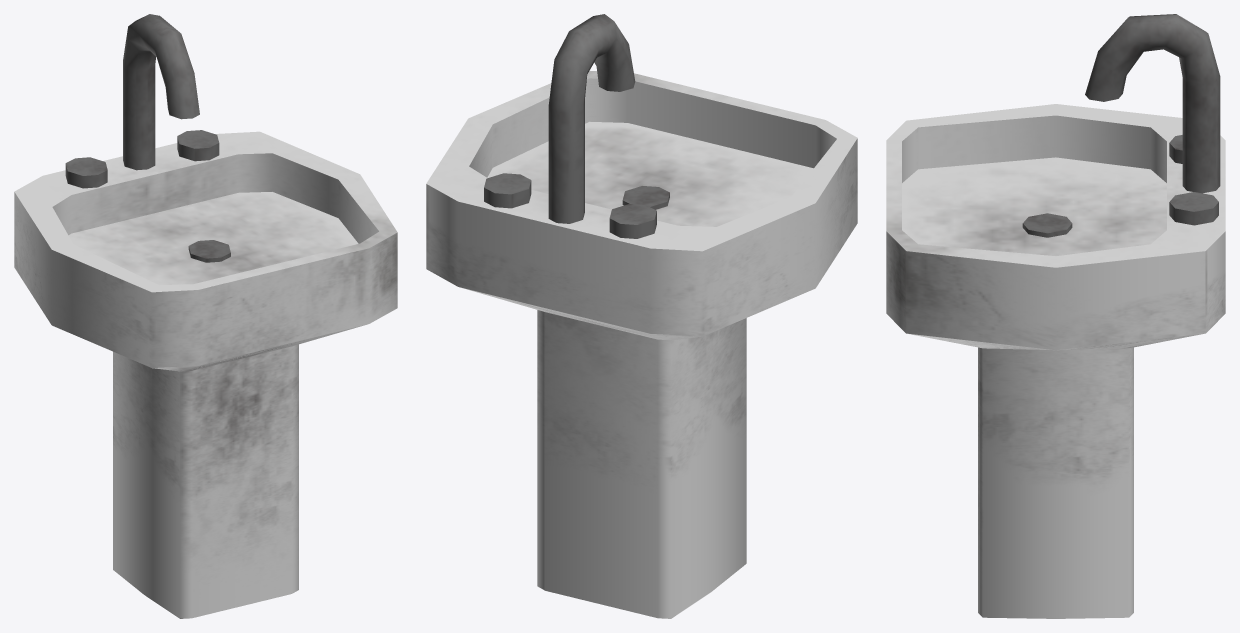
Rendered from piabanehro.glb.
The picture shows the model from 3 angles, left to right: view 1: azimuth 30°, elevation 25°; view 2: azimuth 150°, elevation 25°; view 3: azimuth 270°, elevation 25°; orthographic projection. The views are drawn at different scales.
Parts seen in each view (by area): view 1: Cube.020; view 2: Cube.020; view 3: Cube.020.
Part boxes in pixels (x1,y1,x2,y2): Cube.020: (14, 14, 397, 618); Cube.020: (426, 14, 857, 618); Cube.020: (886, 14, 1225, 618).
Bounding box in the file's own units: 0.8 × 1.3 × 0.7.
Materials: 1 (1 with a texture image).
